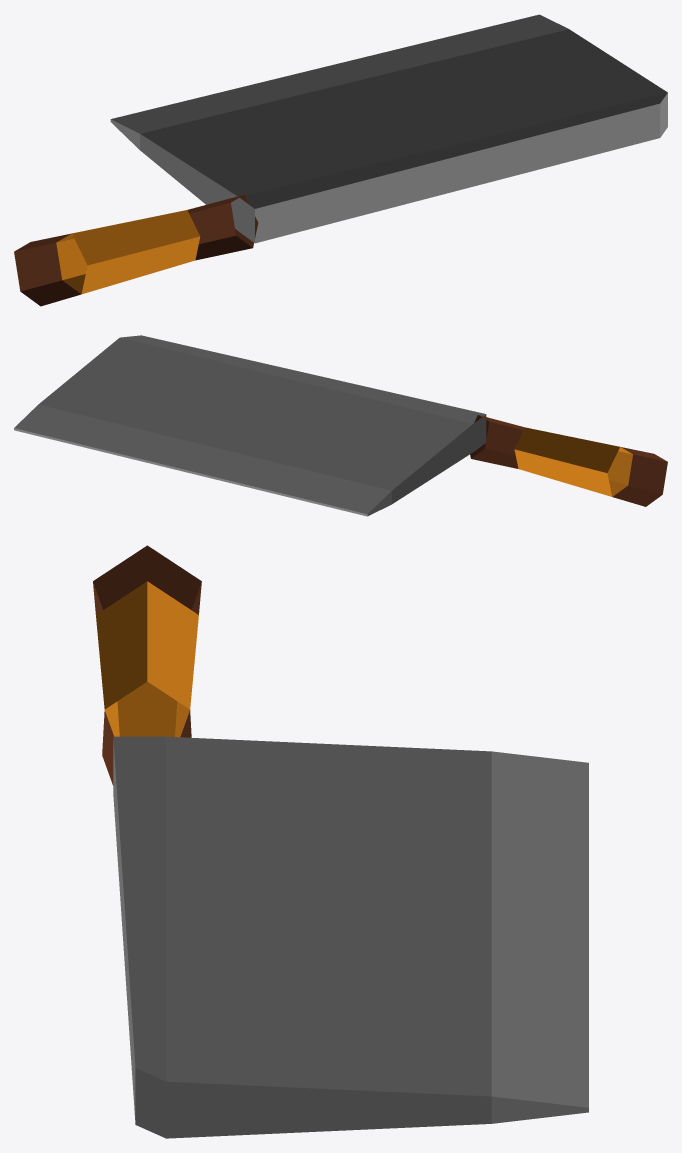
Rendered from Cleaver.fbx.
The picture shows the model from 3 angles, top to bottom: view 1: azimuth 30°, elevation 25°; view 2: azimuth 150°, elevation 25°; view 3: azimuth 270°, elevation 25°; orthographic projection. The views are drawn at different scales.
Visible parts, largest first — view 1: Node 0; view 2: Node 0; view 3: Node 0.
Boxes of the visible parts, box(x1,y1,x2,y2) form: Node 0: box(14, 14, 667, 306); Node 0: box(14, 335, 667, 516); Node 0: box(93, 545, 588, 1138).
Size of the model in its own units: 0.1754 by 0.0367 by 0.4327.
